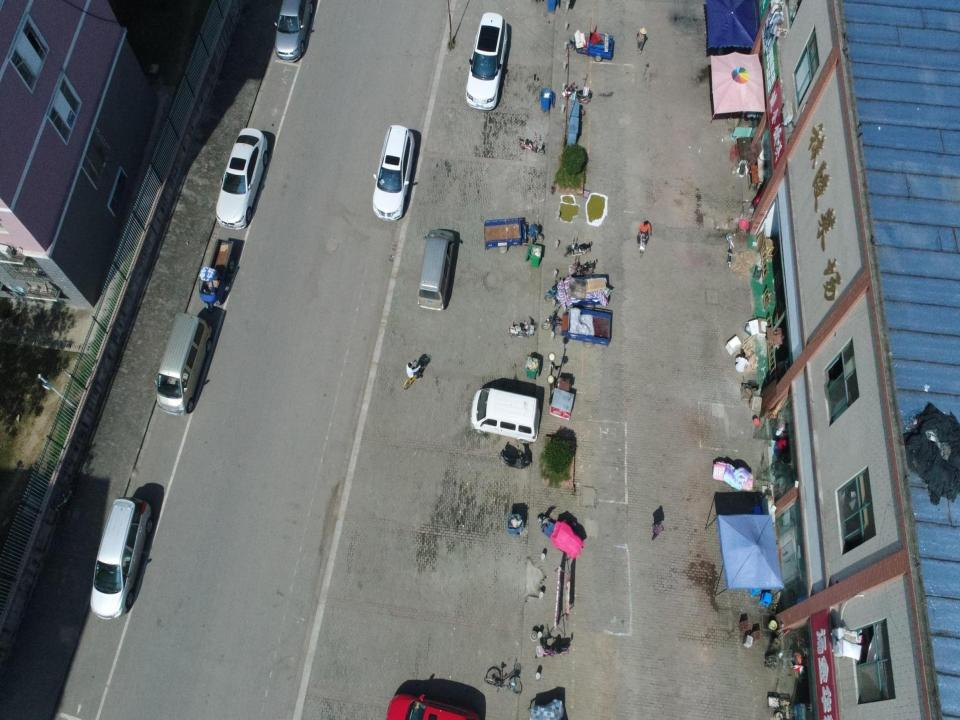car: (90, 498, 149, 619), (216, 119, 271, 226), (467, 11, 508, 113), (374, 124, 416, 221), (387, 693, 479, 719), (276, 0, 313, 62)
van: (158, 313, 214, 411), (471, 388, 540, 446), (419, 229, 455, 310)
